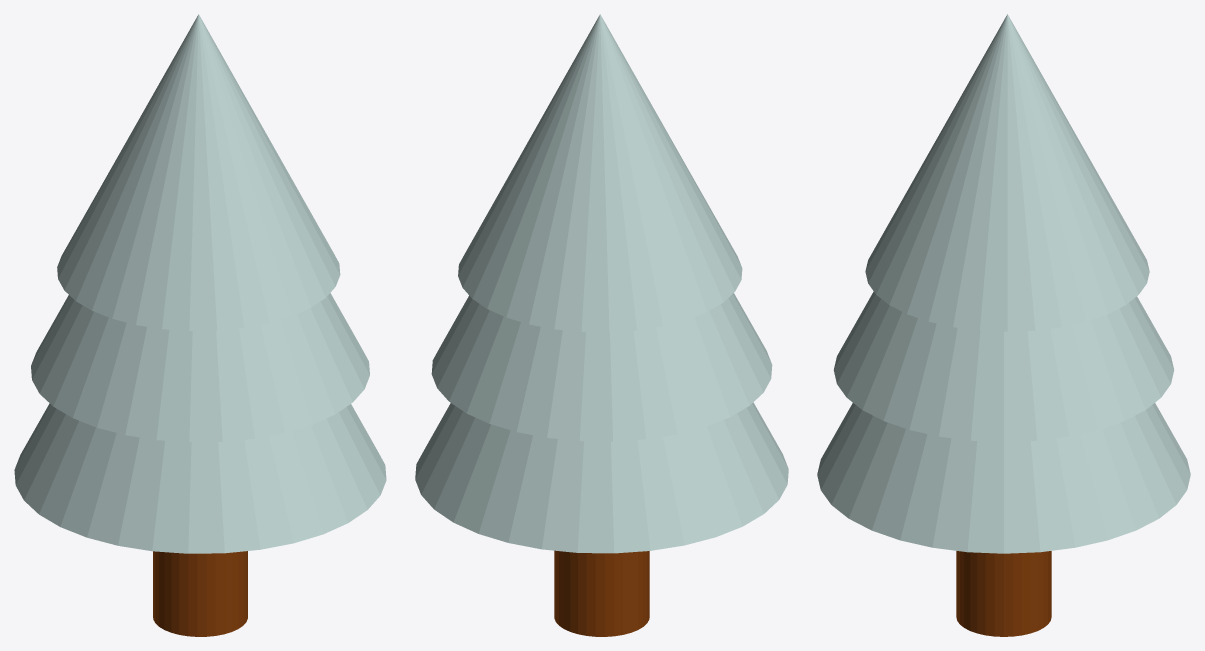
Rendered from icetree.glb.
3 views of the same model, side by side, from view 1: azimuth 30°, elevation 25°; view 2: azimuth 150°, elevation 25°; view 3: azimuth 270°, elevation 25° (orthographic).
Visible parts, largest first — view 1: Ice_Tree; view 2: Ice_Tree; view 3: Ice_Tree.
Boxes of the visible parts, x1=… form: Ice_Tree: x1=14, y1=14, x2=386, y2=636; Ice_Tree: x1=415, y1=14, x2=788, y2=636; Ice_Tree: x1=817, y1=14, x2=1190, y2=636.
Bounding box in the file's own units: 1.43 × 2.55 × 1.43.
